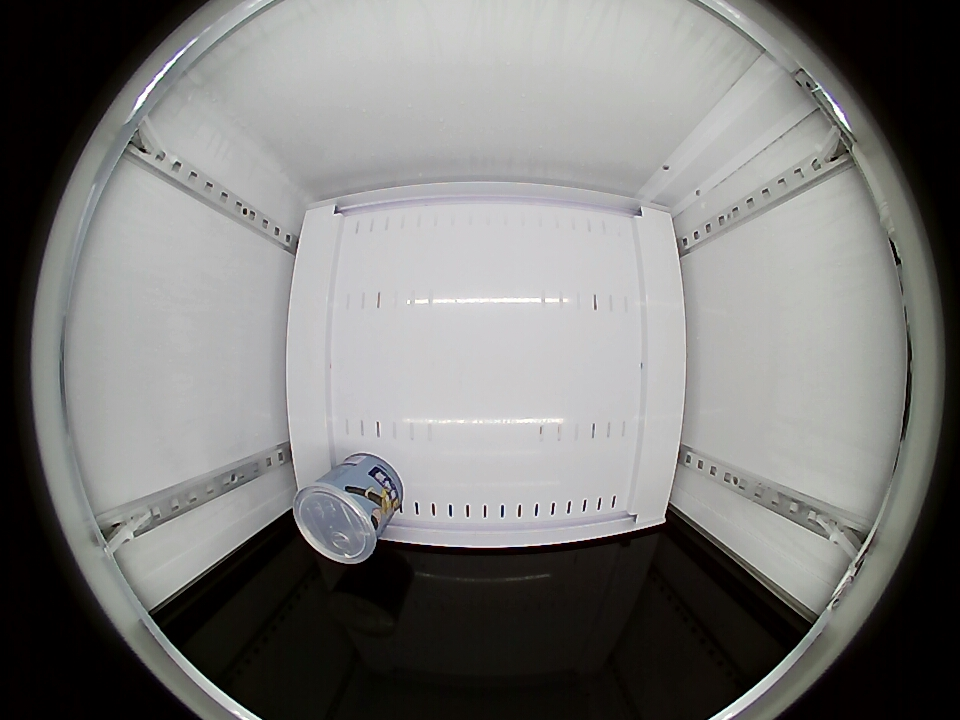haitai: (293, 474, 388, 564)
